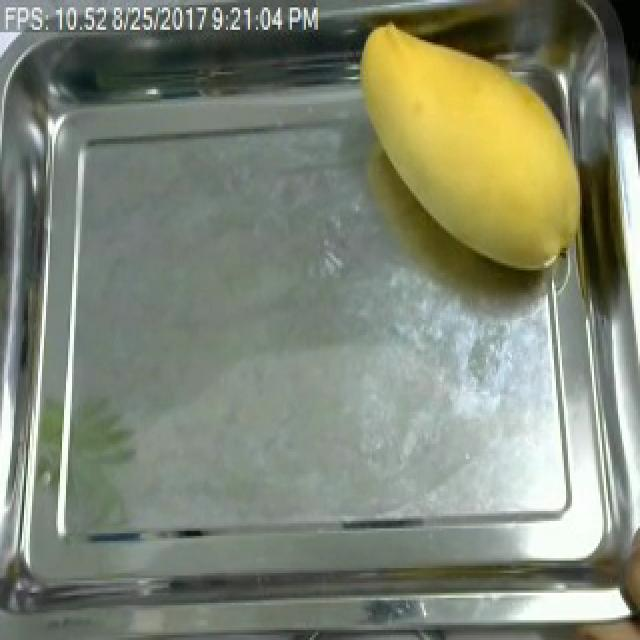fruit: (342, 2, 604, 292)
